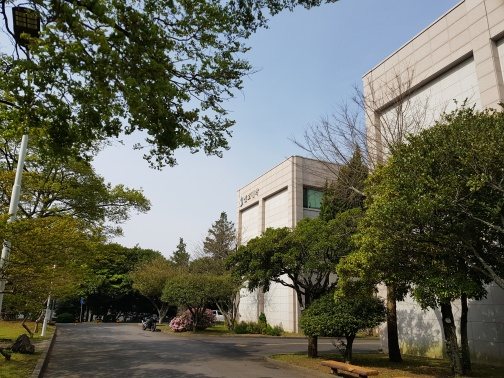College of Nursing: (231, 146, 331, 321)
